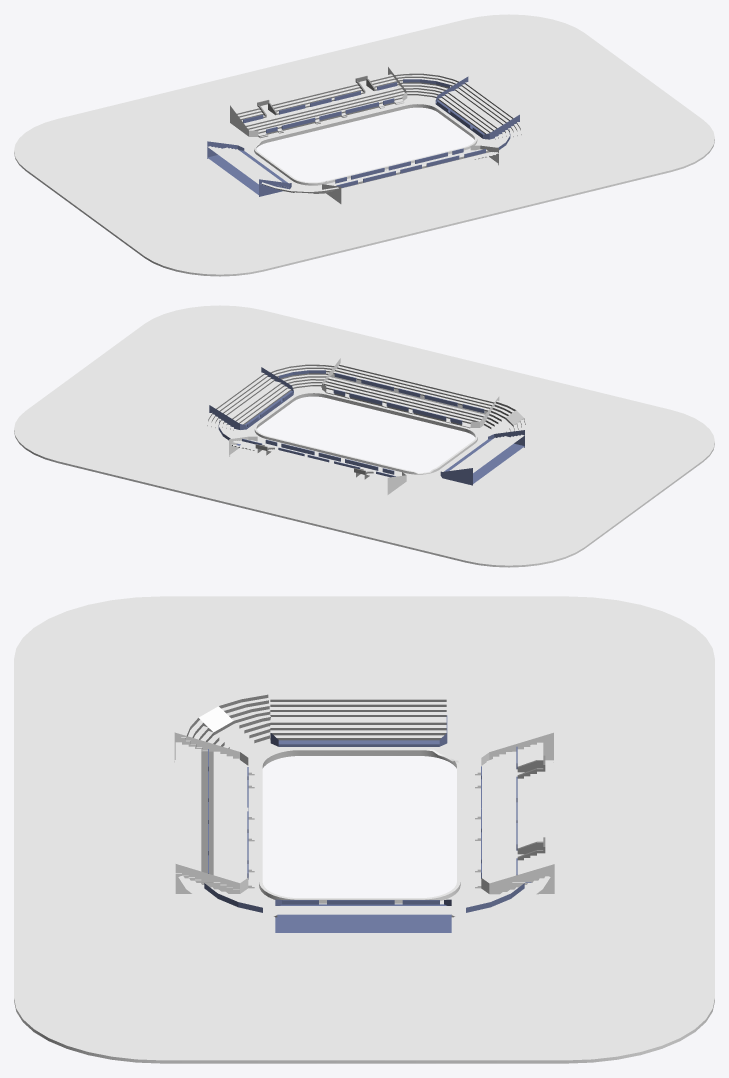
Rendered from Stadium.gltf.
3 views of the same model, one above another, from view 1: azimuth 30°, elevation 25°; view 2: azimuth 150°, elevation 25°; view 3: azimuth 270°, elevation 25° (orthographic). The views are drawn at different scales.
Parts seen in each view (by area): view 1: rink.001; view 2: rink.001; view 3: rink.001.
Part boxes in pixels (x1,y1,x2,y2): rink.001: (14,14,714,276); rink.001: (14,305,714,567); rink.001: (14,596,714,1063).
Size of the model in its own units: 154 by 5.21 by 98.65.
Materials: 1 (1 with a texture image).
